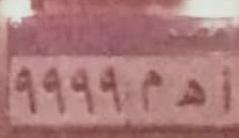9: (40, 67, 67, 119), (69, 68, 95, 119), (98, 66, 125, 115), (15, 63, 37, 115)
alif: (215, 63, 235, 116)
haa: (174, 73, 208, 116)
meem: (139, 67, 167, 114)
